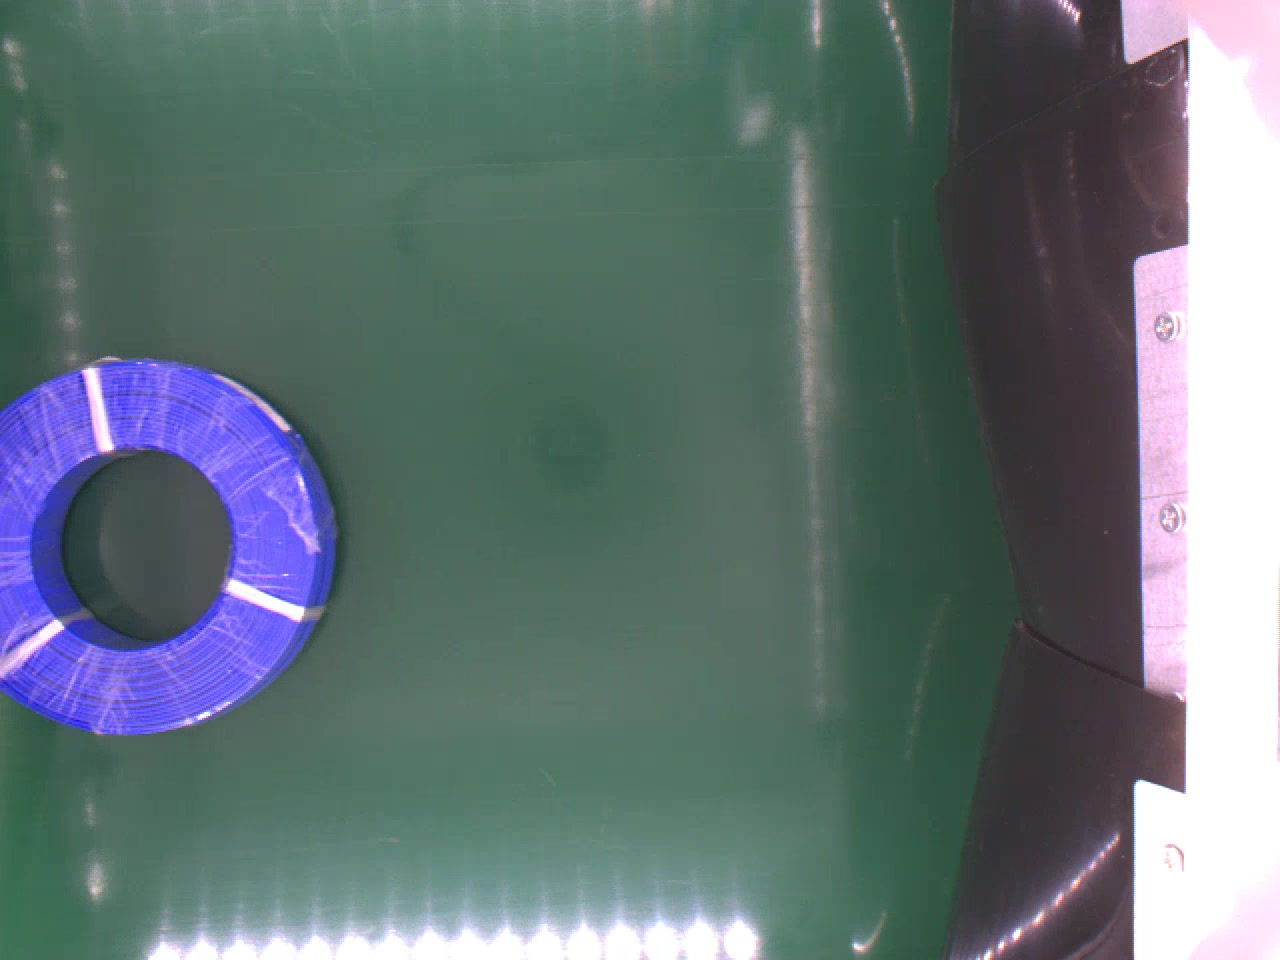blue: (0, 354, 340, 733)
